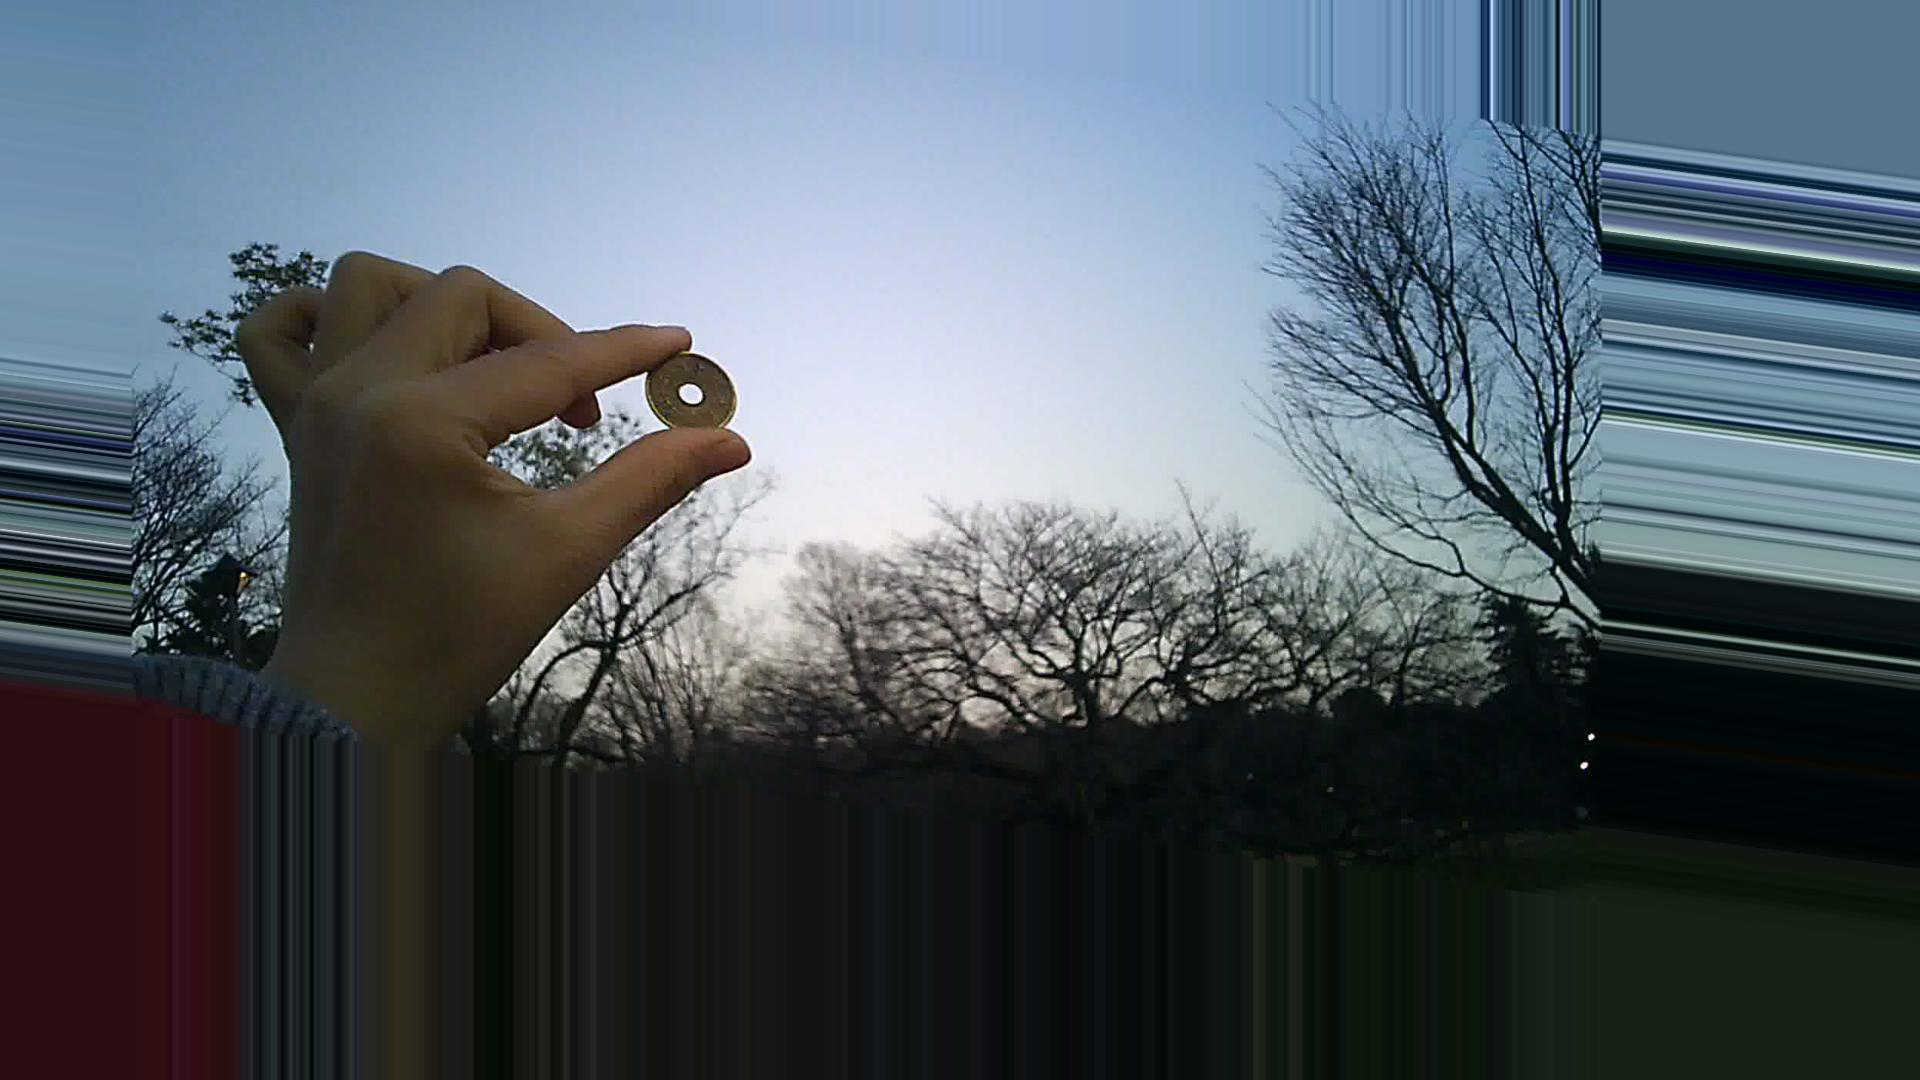5 Yen: (624, 349, 742, 446)
